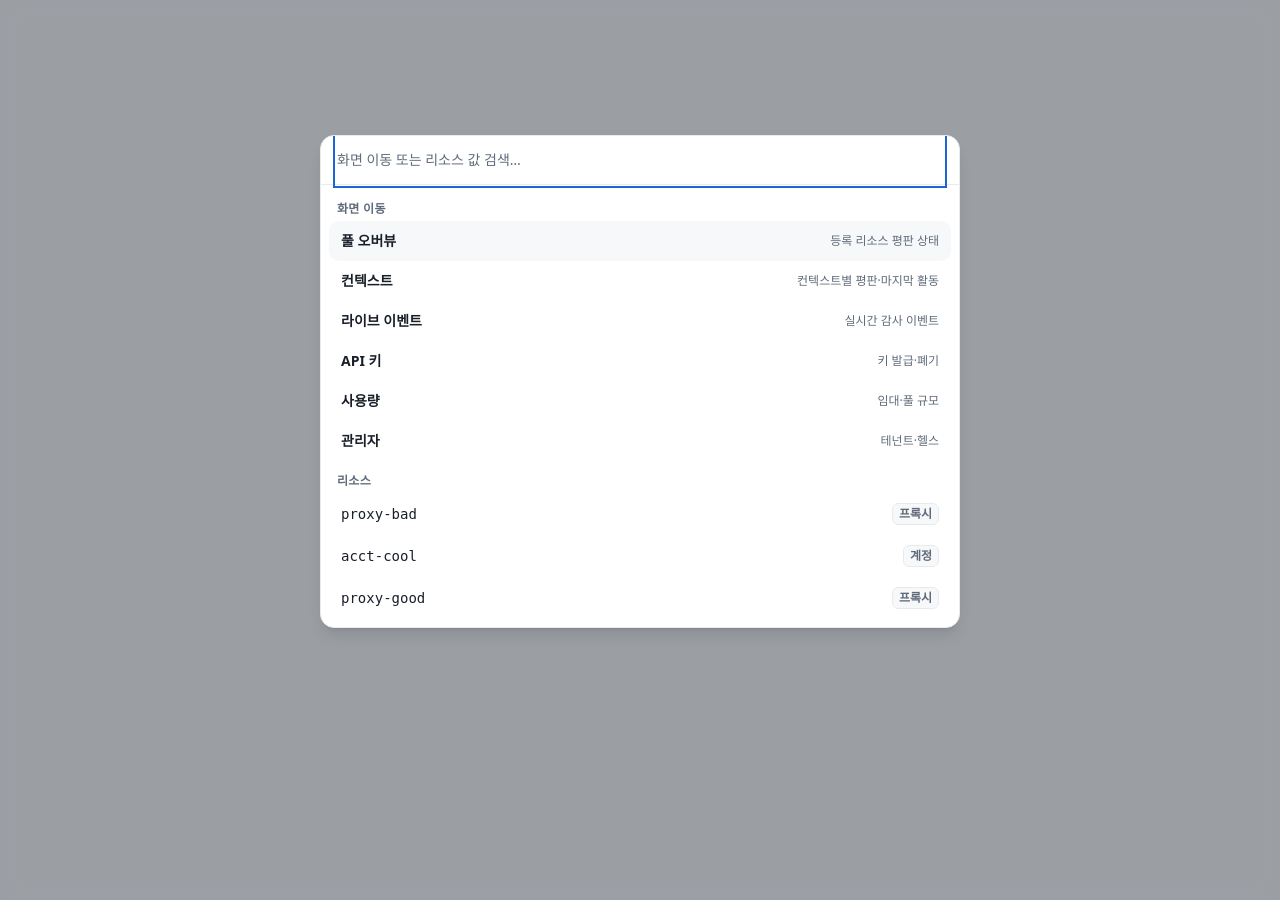
커맨드 팔레트 (⌘K) › 화면 이동 항목을 렌더하고 입력으로 필터한다
The image size is (1280, 900).
Expected: the option "풀 오버뷰 등록 리소스 평판 상태" is shown, [329,221,951,261]
Expected: the option "사용량 임대·풀 규모" is shown, [341,391,939,410]
Note: "이벤트" 입력 시 라이브 이벤트만 남고 나머지는 걸러진다.
In the dropdown with placeholder "화면 이동 또는 리소스 값 검색…": (640, 160) [337,136,943,184], type "이벤트"
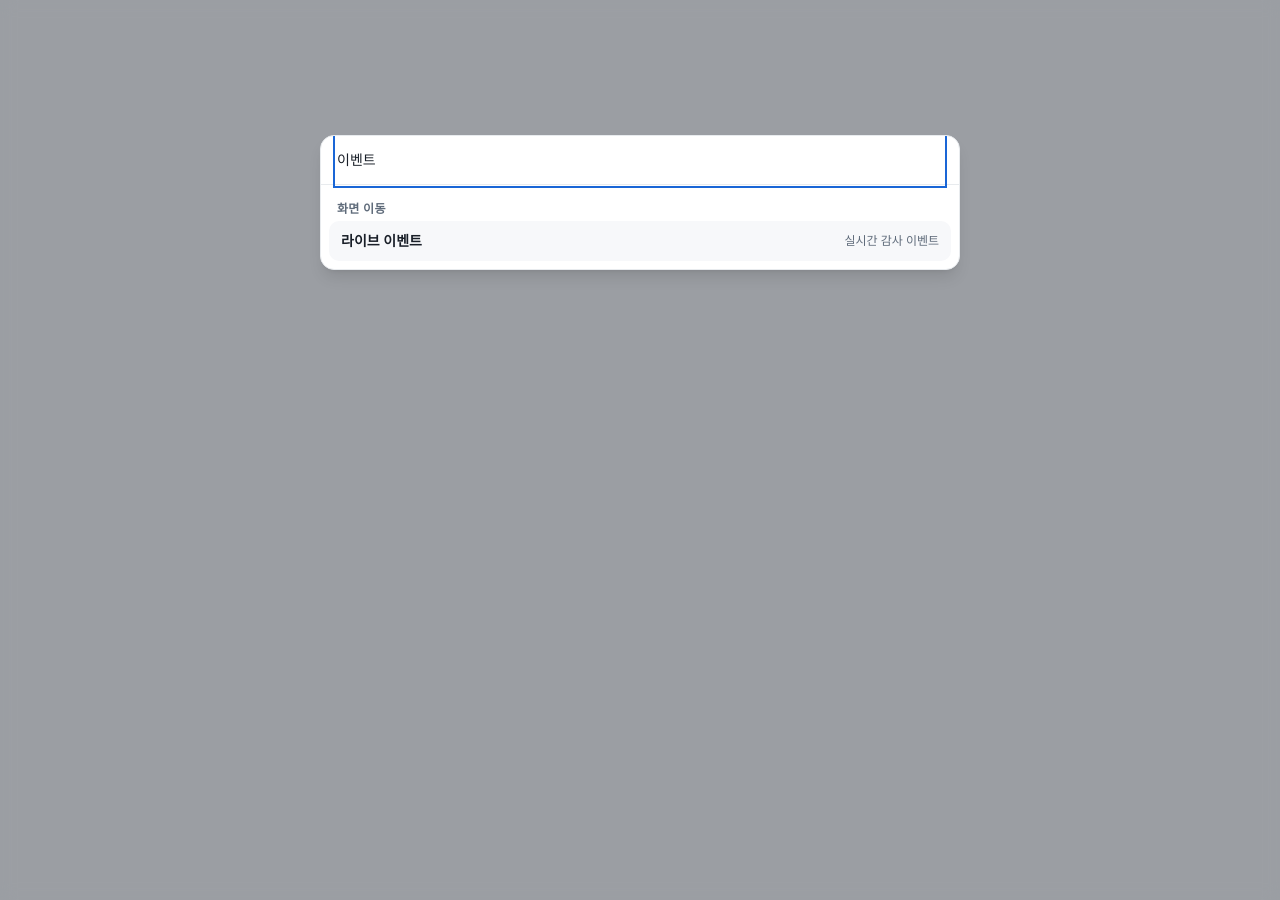
Expected: the option "라이브 이벤트 실시간 감사 이벤트" is shown, [329,221,951,261]
Now the option "사용량" is gone
